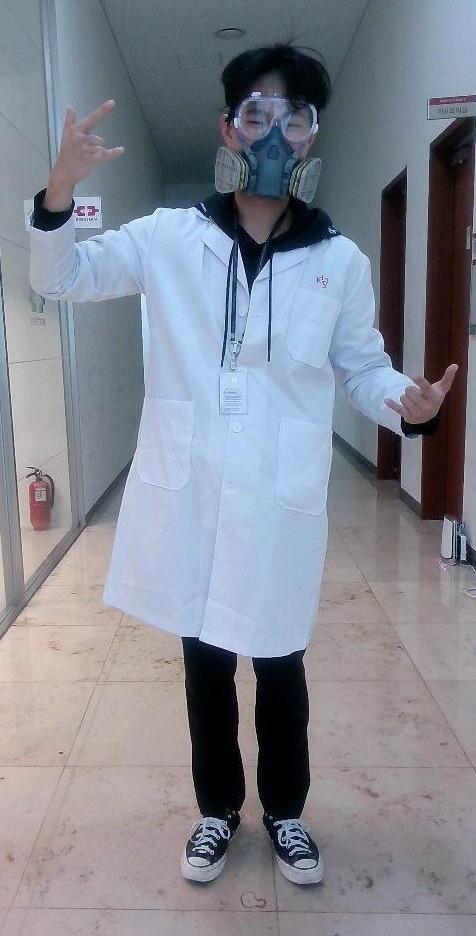lab_coat: (107, 246, 366, 638)
